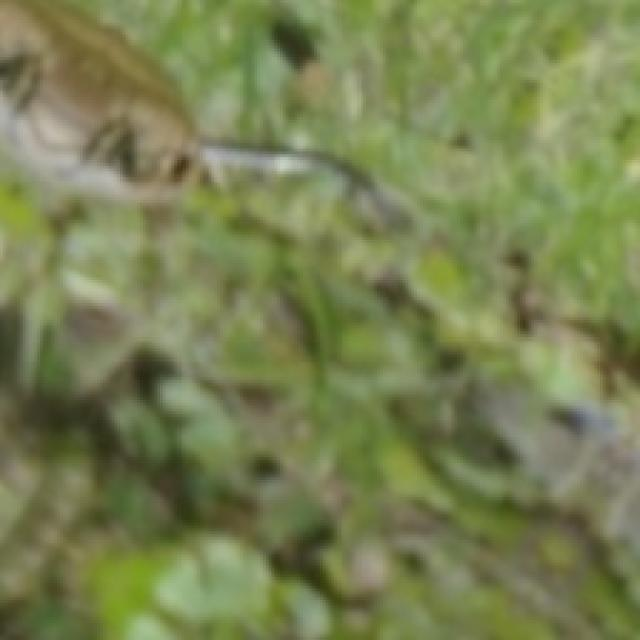king cobra: (0, 0, 400, 214)
